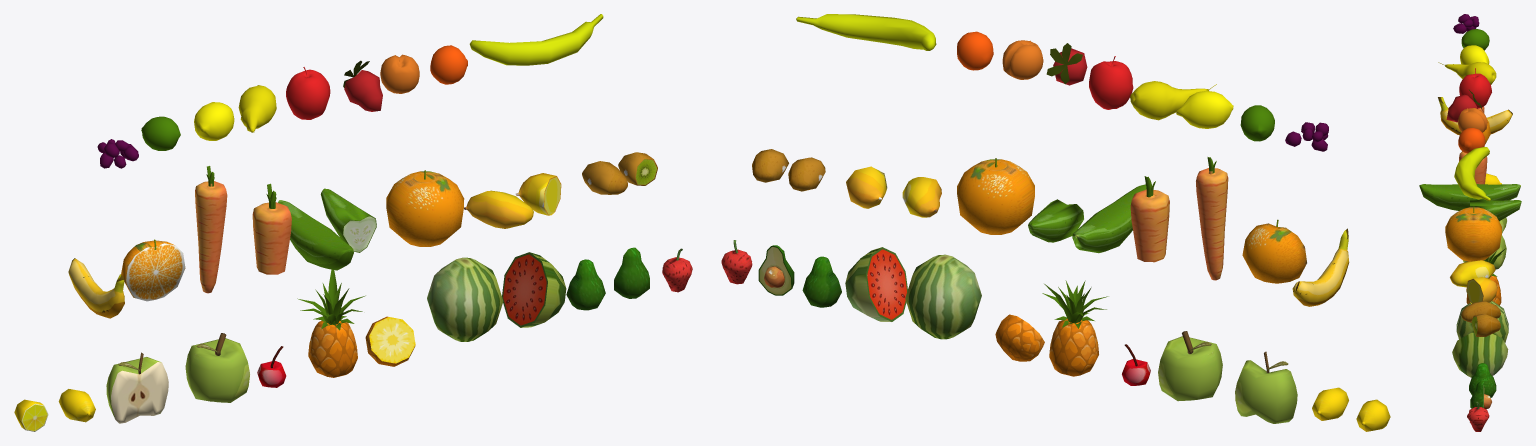
File: Fruits_Veggies.fbx
The picture shows the model from 3 angles, left to right: view 1: azimuth 30°, elevation 25°; view 2: azimuth 150°, elevation 25°; view 3: azimuth 270°, elevation 25°; orthographic projection. The views are drawn at different scales.
Parts seen in each view (by area): view 1: water melon_Material.001_0, orange_Material.001_0, cuted water melon_Material.001_0, green apple_Material.001_0, pineapple_Material.001_0, cuted green apple_Material.001_0, half cut orange_Material.001_0, carrot_Material.001_0, Banana_Banana_0, half cyt carrot_Material.001_0, cucmber_Material.001_0, half cut cucmber_Material.001_0 (+20 smaller); view 2: water melon_Material.001_0, orange_Material.001_0, cuted water melon_Material.001_0, green apple_Material.001_0, pineapple_Material.001_0, cuted green apple_Material.001_0, half cut orange_Material.001_0, Banana_Banana_0, carrot_Material.001_0, half cyt carrot_Material.001_0, cucmber_Material.001_0, Apple_Apple_0 (+20 smaller); view 3: orange_Material.001_0, cuted water melon_Material.001_0, cucmber_Material.001_0, Banana_Banana_0, mango_Material.001_0, Apple_Apple_0, bnanna_Material.001_0, half cut mango_Material.001_0, half cut cucmber_Material.001_0, water melon_Material.001_0, Pear_Pear_0, Peach_Peach_0 (+14 smaller).
Part boxes in pixels (x1,y1,x2,y2): water melon_Material.001_0: (427, 257, 503, 341); orange_Material.001_0: (386, 170, 464, 246); cuted water melon_Material.001_0: (502, 252, 566, 327); green apple_Material.001_0: (185, 333, 249, 402); pineapple_Material.001_0: (297, 269, 365, 377); cuted green apple_Material.001_0: (106, 352, 168, 423); half cut orange_Material.001_0: (121, 239, 185, 301); carrot_Material.001_0: (195, 166, 227, 293); Banana_Banana_0: (469, 14, 603, 65); half cyt carrot_Material.001_0: (252, 183, 291, 274); cucmber_Material.001_0: (278, 200, 353, 270); half cut cucmber_Material.001_0: (320, 188, 376, 252); water melon_Material.001_0: (905, 254, 981, 339); orange_Material.001_0: (957, 158, 1034, 234); cuted water melon_Material.001_0: (845, 247, 907, 321); green apple_Material.001_0: (1158, 331, 1222, 401); pineapple_Material.001_0: (1042, 280, 1108, 376); cuted green apple_Material.001_0: (1235, 351, 1297, 423); half cut orange_Material.001_0: (1242, 219, 1306, 283); Banana_Banana_0: (796, 14, 936, 50); carrot_Material.001_0: (1196, 157, 1228, 280); half cyt carrot_Material.001_0: (1130, 176, 1169, 262); cucmber_Material.001_0: (1072, 184, 1146, 253); Apple_Apple_0: (1089, 56, 1133, 109); orange_Material.001_0: (1445, 206, 1501, 261); cuted water melon_Material.001_0: (1452, 332, 1508, 377); cucmber_Material.001_0: (1419, 184, 1520, 210); Banana_Banana_0: (1454, 147, 1490, 201); mango_Material.001_0: (1450, 260, 1495, 287); Apple_Apple_0: (1459, 68, 1491, 108); bnanna_Material.001_0: (1438, 97, 1512, 135); half cut mango_Material.001_0: (1466, 277, 1497, 303); half cut cucmber_Material.001_0: (1470, 199, 1521, 221); water melon_Material.001_0: (1456, 301, 1508, 342); Pear_Pear_0: (1438, 62, 1496, 84); Peach_Peach_0: (1457, 108, 1487, 132).
Size of the model in its own units: 581 by 269 by 106.
Materials: 11 (1 with a texture image).
